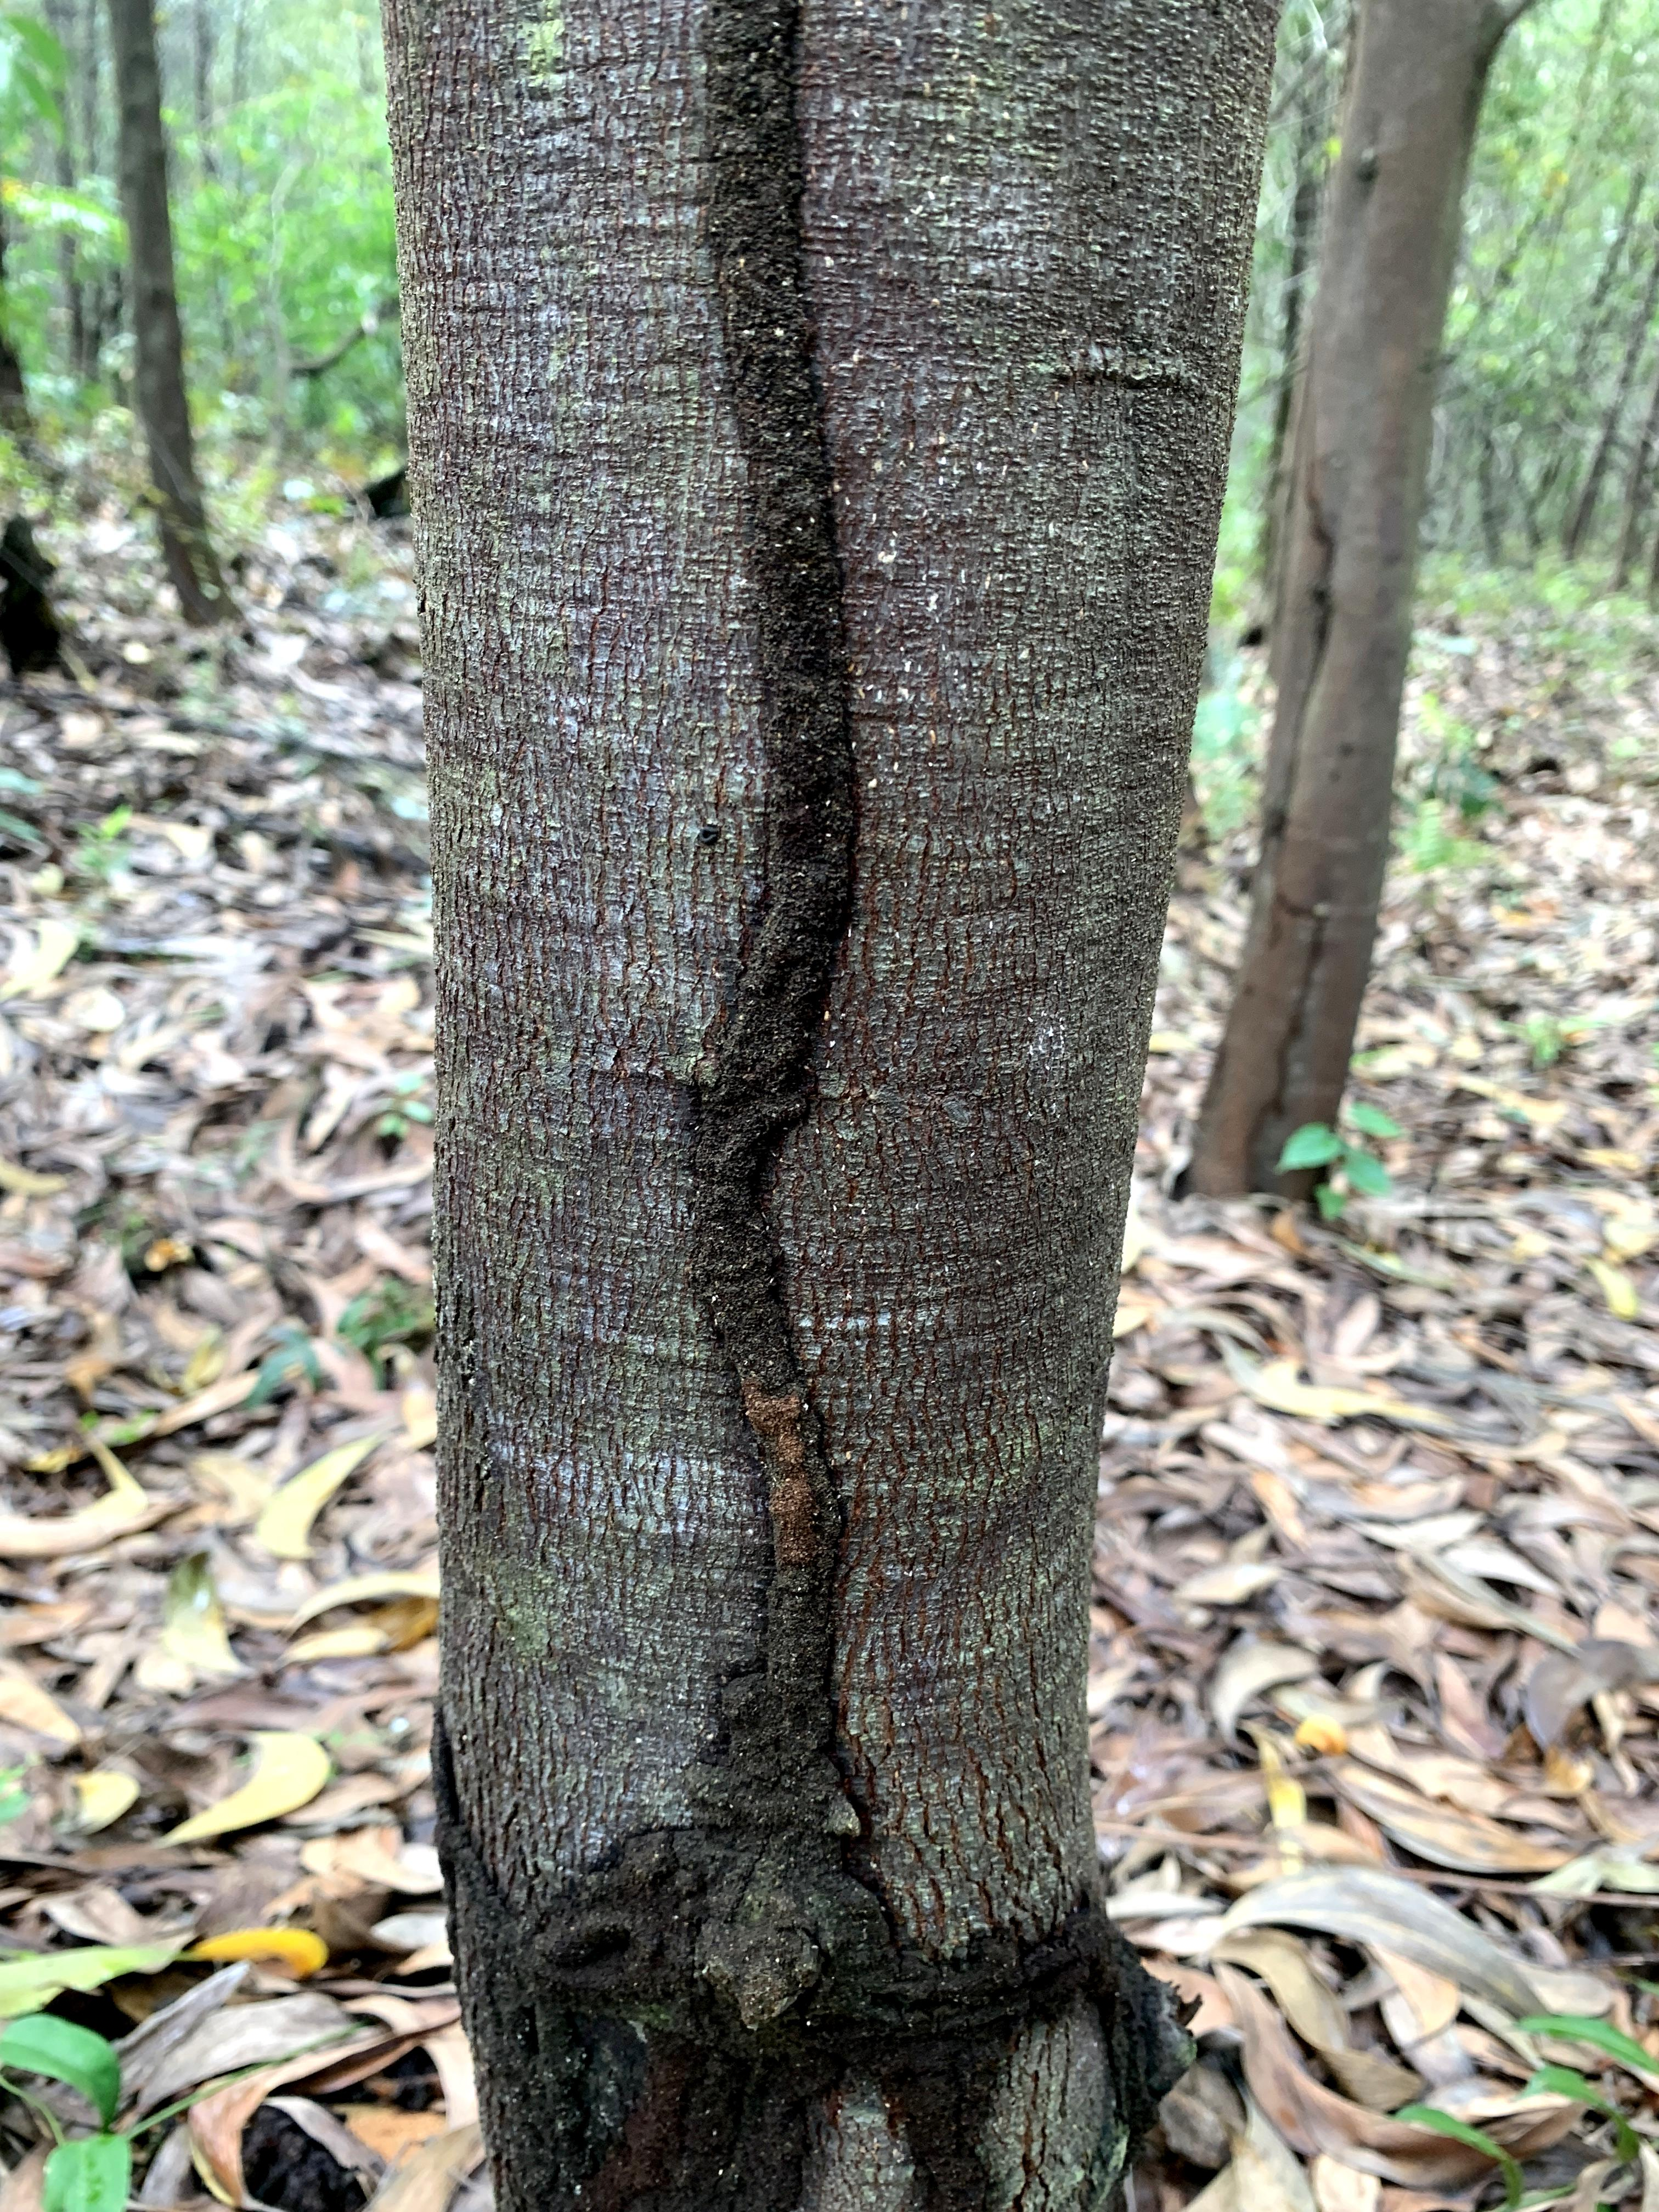Termite - Nest: (610, 12, 932, 2212)
